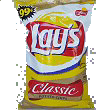grozi_51: (13, 0, 95, 110)
